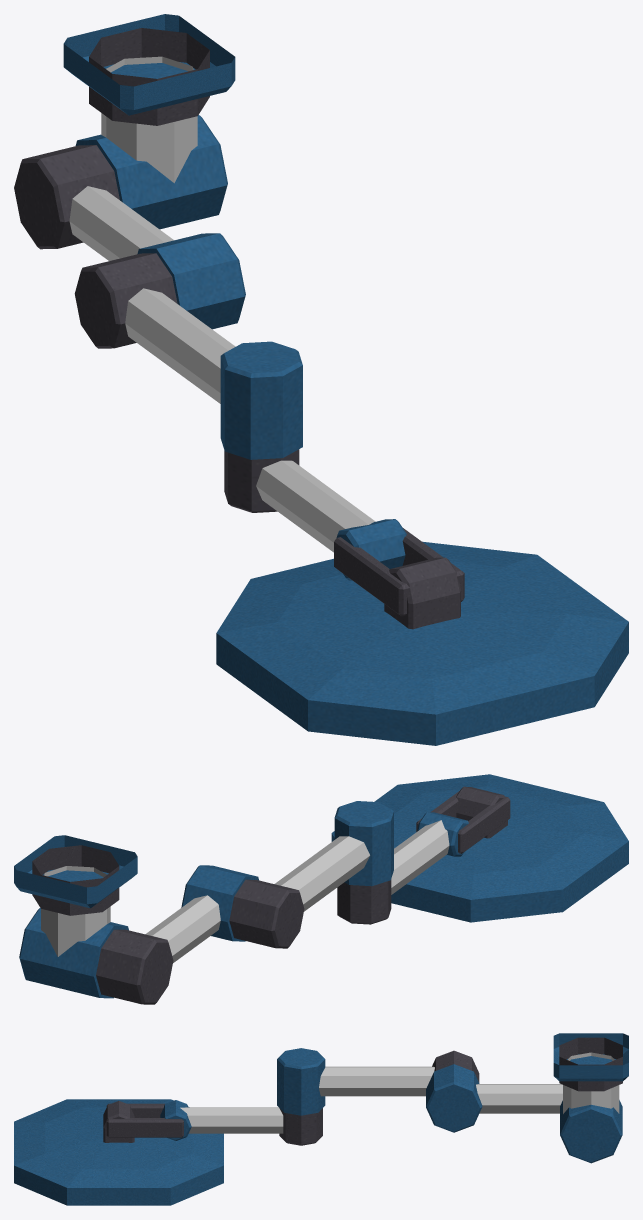
Rendered from OperatingLight.fbx.
3 renders of one model, top to bottom at view 1: azimuth 30°, elevation 25°; view 2: azimuth 150°, elevation 25°; view 3: azimuth 270°, elevation 25°, orthographic. The views are drawn at different scales.
Visible parts, largest first — view 1: Light, Joint.010, LightManipulator, Joint.014, Joint.013, Tube.004, Joint.012, Joint-Basemant.001, Joint.011, Tube.003, Tube.005, Joint.015 (+3 smaller); view 2: Light, Joint.013, Joint.014, LightManipulator, Joint.011, Joint.010, Tube.004, Joint-Basemant.001, Tube.005, Joint.012, Tube.003, Joint.015 (+3 smaller); view 3: Light, Tube.004, Joint.014, Joint.012, Joint.010, Tube.003, Tube.005, LightManipulator, Plank.001, Joint-Basemant.001, Joint.015, Joint.009 (+2 smaller).
Part boxes in pixels (x1=…): Light: x1=216, y1=541, x2=628, y2=745; Joint.010: x1=220, y1=341, x2=302, y2=459; LightManipulator: x1=63, y1=14, x2=235, y2=115; Joint.014: x1=75, y1=115, x2=227, y2=229; Joint.013: x1=14, y1=145, x2=119, y2=249; Tube.004: x1=125, y1=288, x2=235, y2=403; Joint.012: x1=137, y1=233, x2=245, y2=329; Joint-Basemant.001: x1=89, y1=28, x2=209, y2=125; Joint.011: x1=74, y1=253, x2=177, y2=348; Tube.003: x1=256, y1=460, x2=375, y2=552; Tube.005: x1=69, y1=186, x2=173, y2=260; Joint.015: x1=101, y1=56, x2=197, y2=183; Light: x1=331, y1=774, x2=628, y2=922; Joint.013: x1=96, y1=929, x2=173, y2=1004; Joint.014: x1=19, y1=908, x2=128, y2=998; LightManipulator: x1=14, y1=835, x2=137, y2=908; Joint.011: x1=229, y1=879, x2=304, y2=948; Joint.010: x1=334, y1=801, x2=393, y2=886; Tube.004: x1=274, y1=836, x2=369, y2=911; Joint-Basemant.001: x1=32, y1=845, x2=119, y2=915; Tube.005: x1=145, y1=895, x2=220, y2=962; Joint.012: x1=181, y1=865, x2=258, y2=941; Tube.003: x1=391, y1=820, x2=449, y2=894; Joint.015: x1=41, y1=866, x2=110, y2=956; Light: x1=14, y1=1099, x2=223, y2=1205; Tube.004: x1=319, y1=1066, x2=434, y2=1096; Joint.014: x1=560, y1=1100, x2=622, y2=1163; Joint.012: x1=426, y1=1064, x2=482, y2=1132; Joint.010: x1=277, y1=1048, x2=325, y2=1115; Tube.003: x1=180, y1=1107, x2=283, y2=1133; Tube.005: x1=476, y1=1084, x2=562, y2=1113; LightManipulator: x1=553, y1=1033, x2=628, y2=1081; Plank.001: x1=106, y1=1103, x2=183, y2=1137; Joint-Basemant.001: x1=559, y1=1037, x2=622, y2=1091; Joint.015: x1=563, y1=1052, x2=619, y2=1113; Joint.009: x1=279, y1=1108, x2=322, y2=1145.
Size of the model in its own units: 1.21 by 3.14 by 0.8545.
